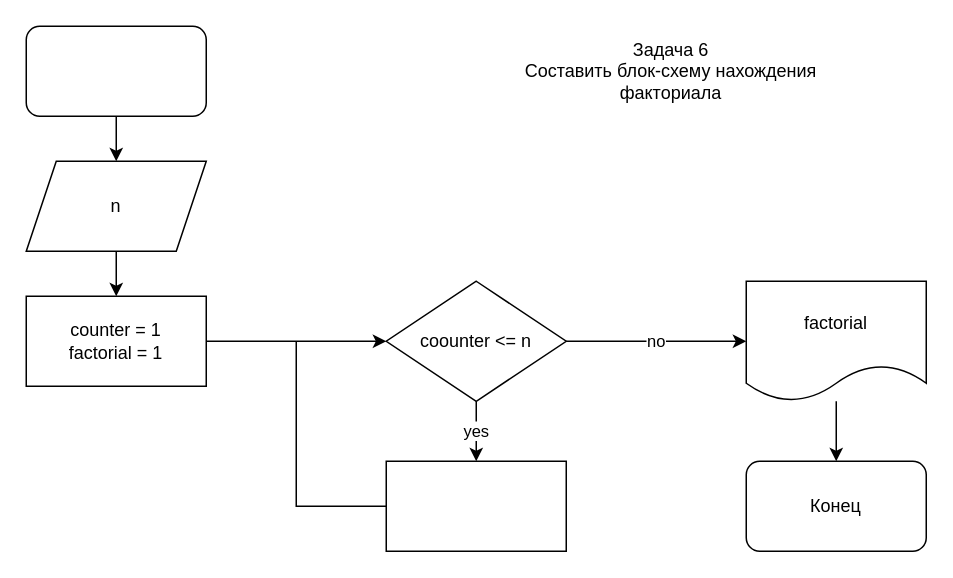
Some shapes in this 953 by 578 pixel diagram are drawn without their labels. Each missing label, with the centre of its shape:
"counter += 1 factorial *= counter" goes at point 475,505.
"Начало" goes at point 115,70.
